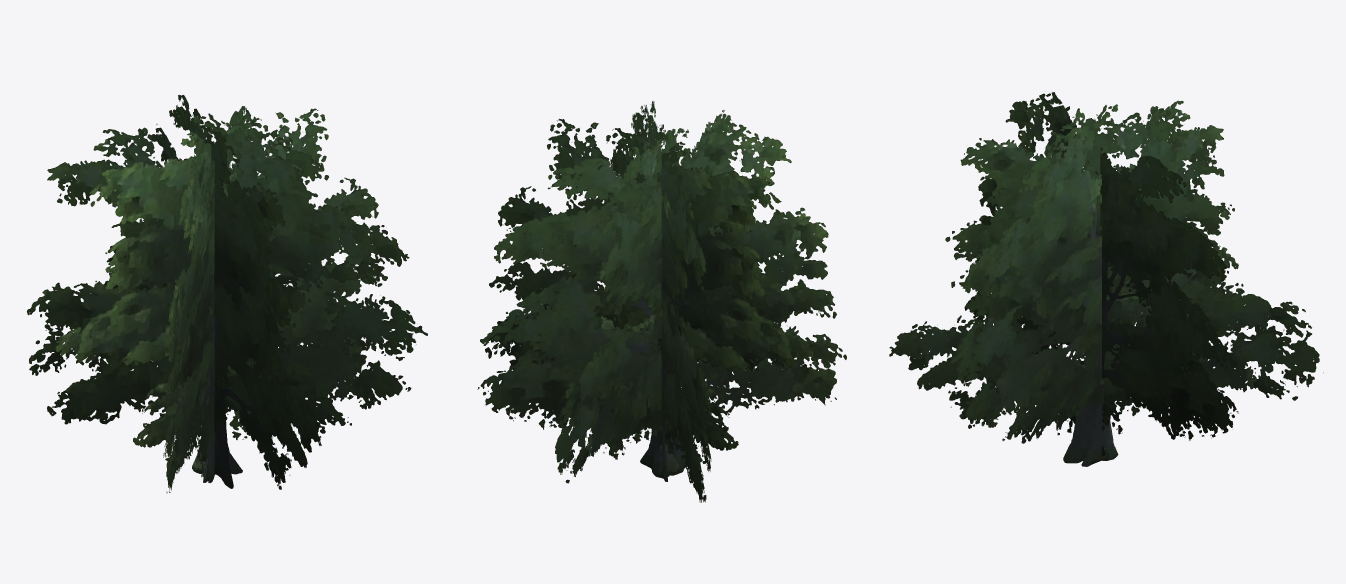
File: Sce_bf_tree05.fbx
3 views of the same model, side by side, from view 1: azimuth 30°, elevation 25°; view 2: azimuth 150°, elevation 25°; view 3: azimuth 270°, elevation 25° (orthographic). The views are drawn at different scales.
Parts seen in each view (by area): view 1: tree05; view 2: tree05; view 3: tree05.
Part boxes in pixels (box(x1,y1,x2,y2)): tree05: box(27, 95, 427, 493); tree05: box(477, 101, 846, 502); tree05: box(889, 92, 1323, 466).
Size of the model in its own units: 30.49 by 31.73 by 33.96.
